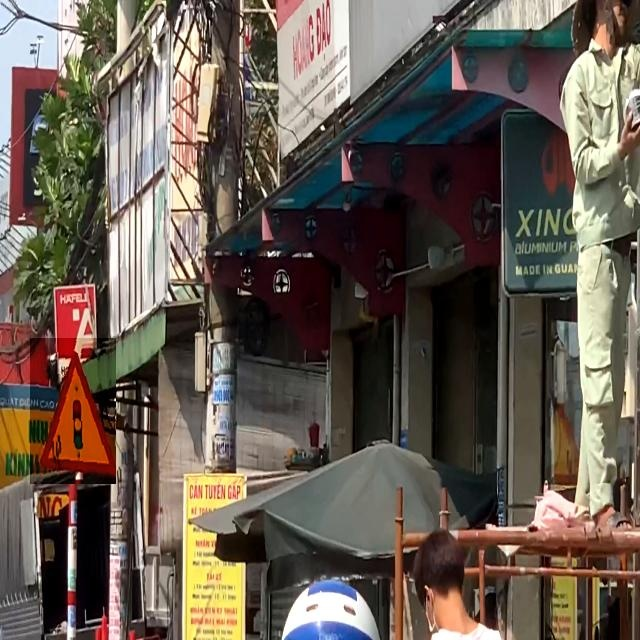bien_nguy_hiem: (30, 338, 116, 484)
